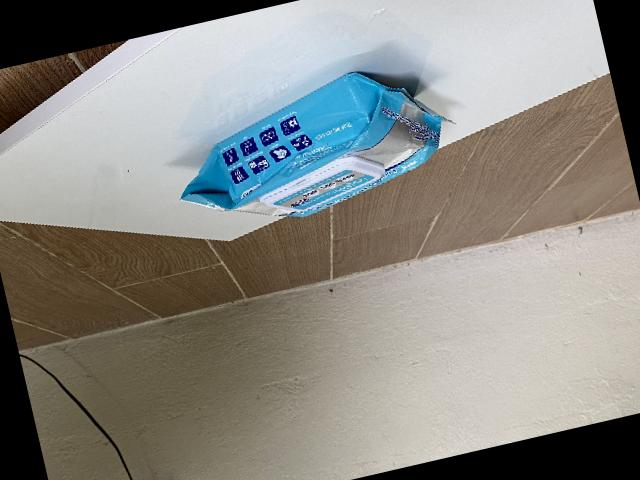Let-green_alcohol_wipes: (177, 70, 456, 216)
